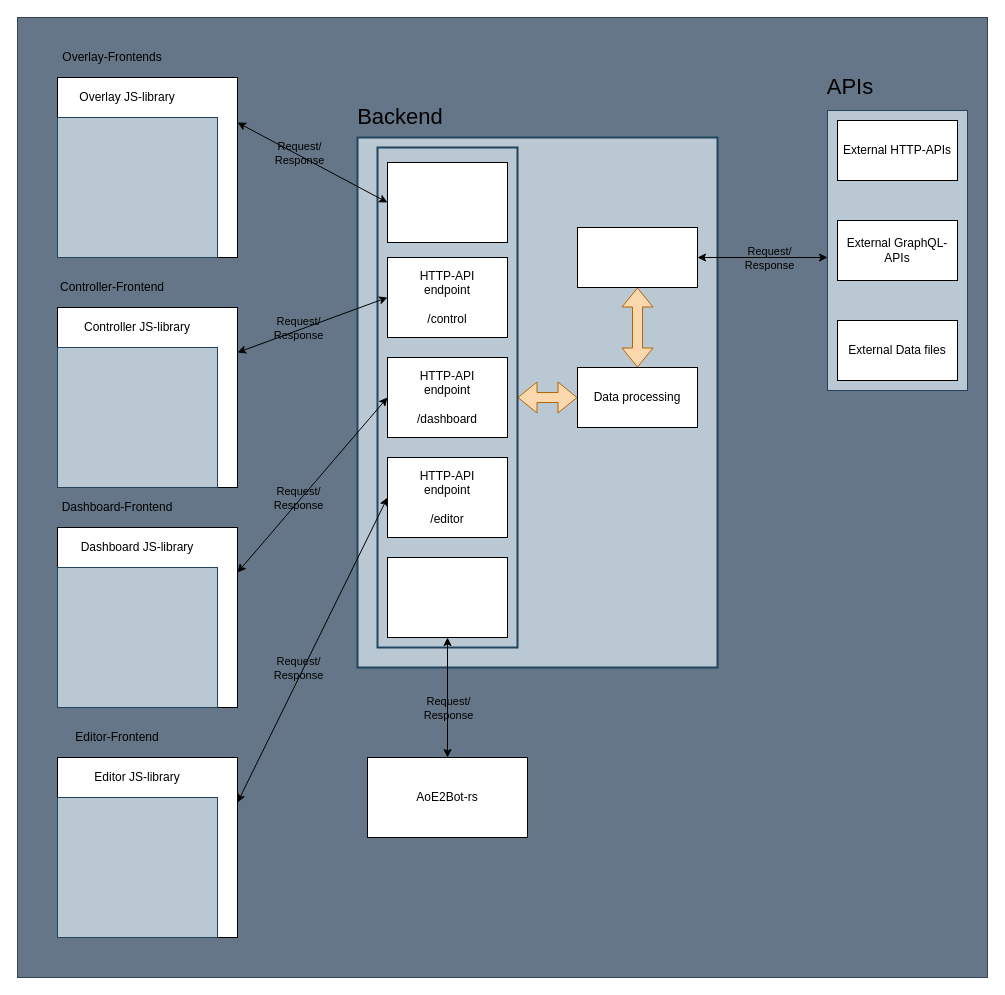
Some shapes in this 1005 by 995 pixel diagram are drawn without their labels. The shapes that lost their labels are listed below. From the top down, each one's box as (x1, y1, x2, y2) in pixels, then its label:
(386, 162, 508, 242): HTTP-API endpoint /overlays
(576, 226, 698, 288): API-Handler
(386, 556, 508, 638): HTTP-API endpoint /status
